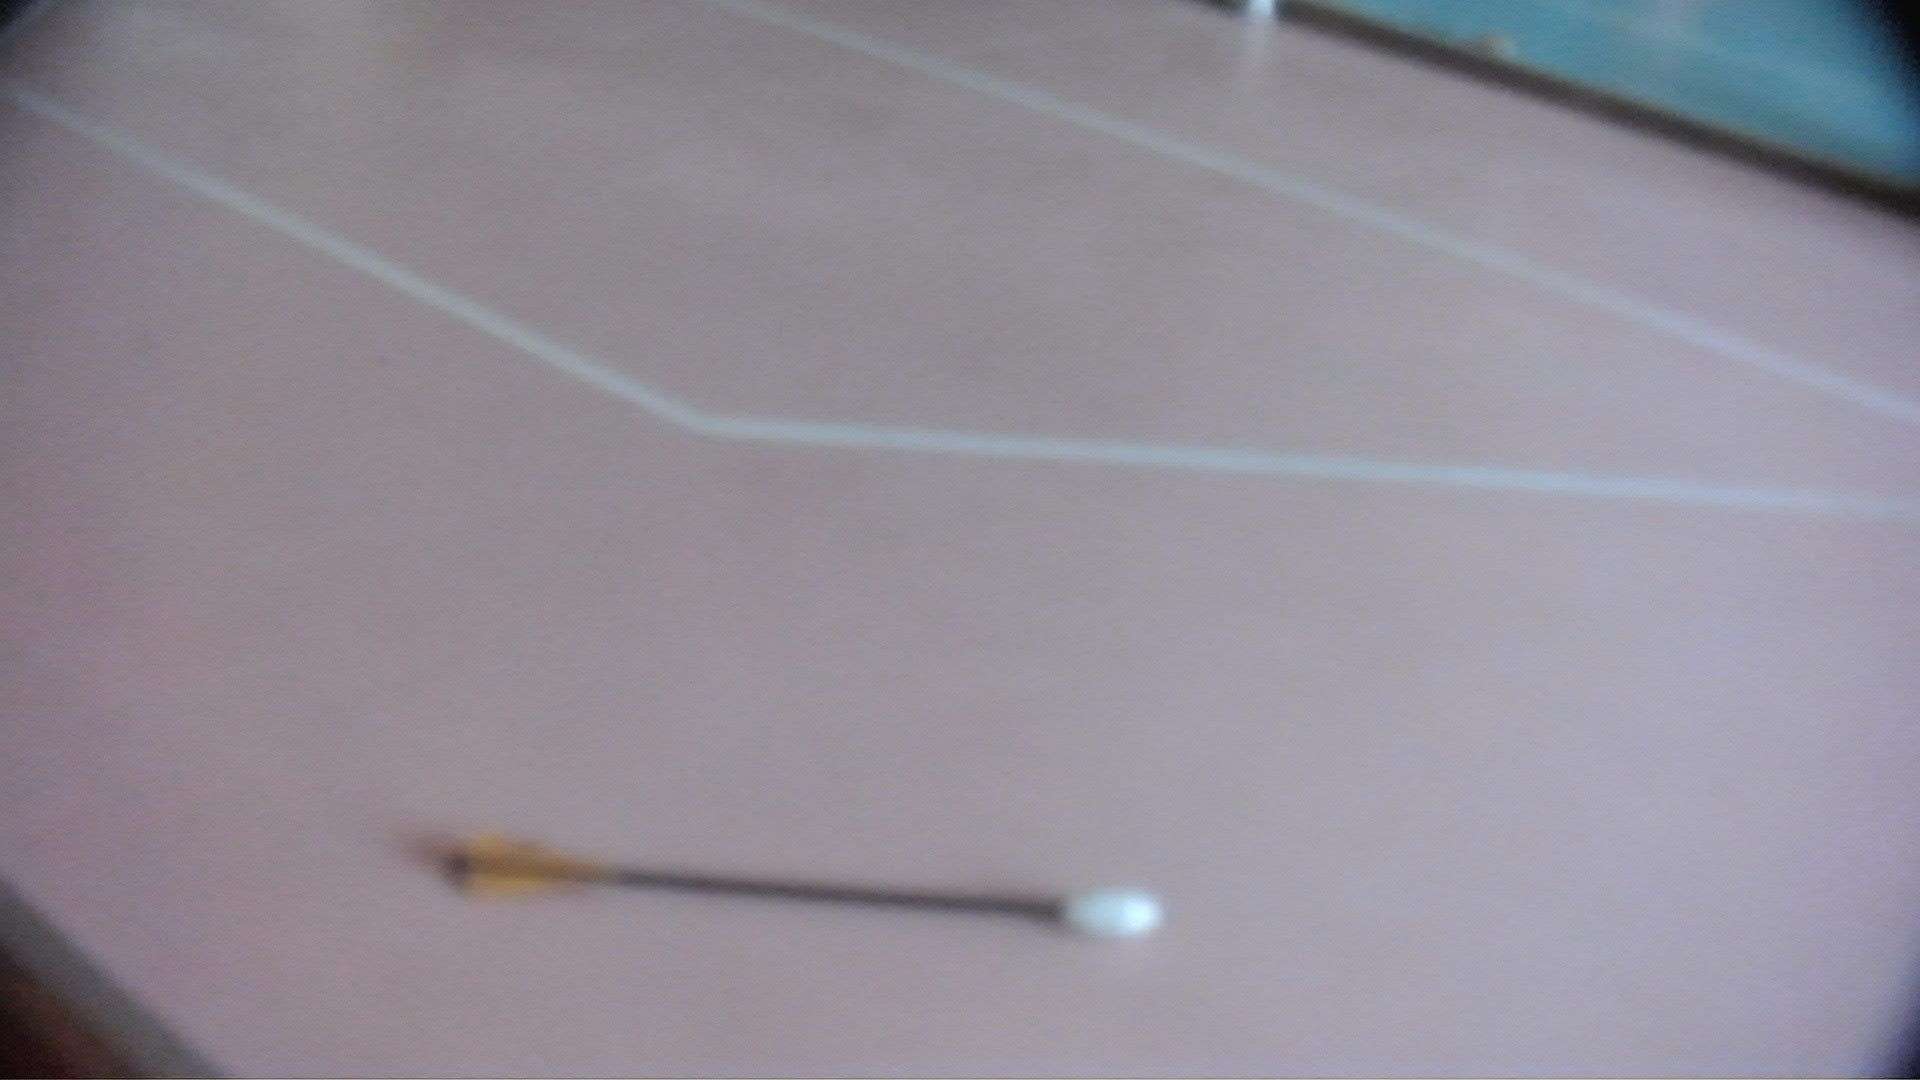arrow: (439, 829, 1164, 943)
arrowFront: (1044, 887, 1167, 944)
